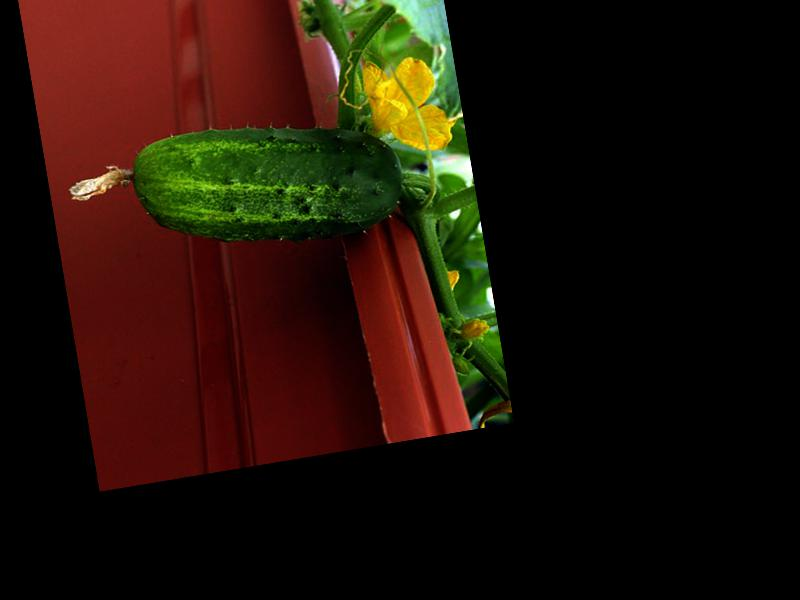Cucumber: (61, 98, 411, 278)
